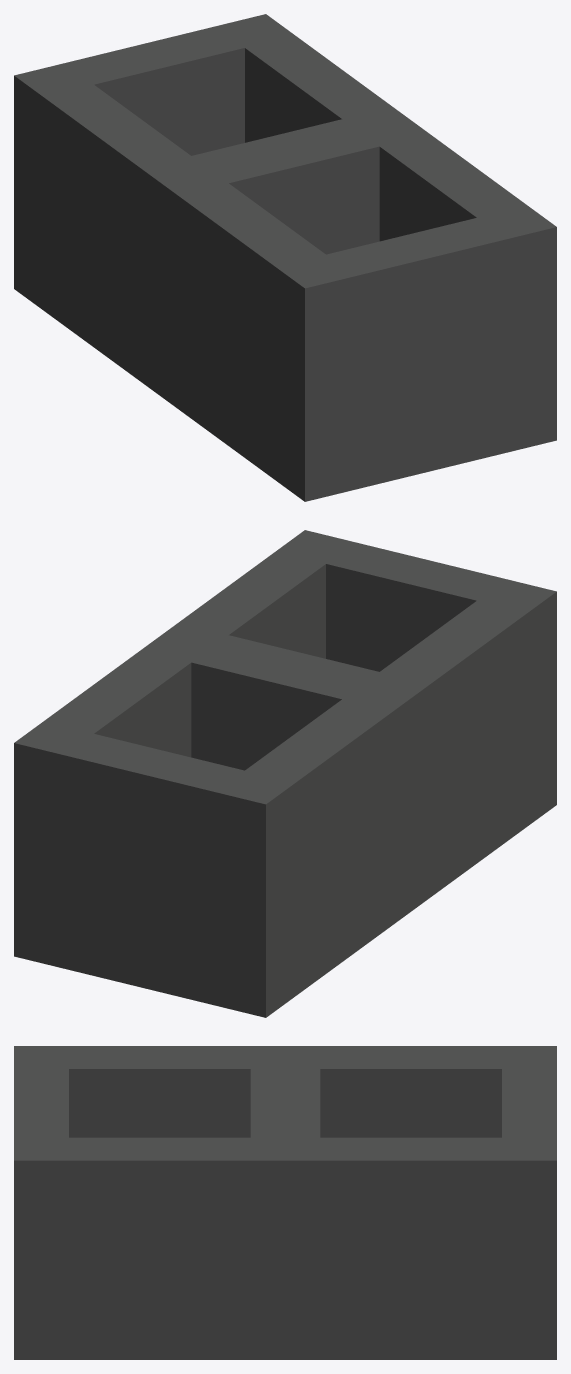
The model's file is Brick_1_2.fbx.
3 renders of one model, top to bottom at view 1: azimuth 30°, elevation 25°; view 2: azimuth 150°, elevation 25°; view 3: azimuth 270°, elevation 25°, orthographic. The views are drawn at different scales.
Visible parts, largest first — view 1: Brick_1_2; view 2: Brick_1_2; view 3: Brick_1_2.
Part boxes in pixels (bbox=[...]): Brick_1_2: bbox=[14, 14, 556, 501]; Brick_1_2: bbox=[14, 530, 556, 1017]; Brick_1_2: bbox=[14, 1046, 556, 1359].
Bounding box in the file's own units: 17.52 × 14.18 × 35.04.
